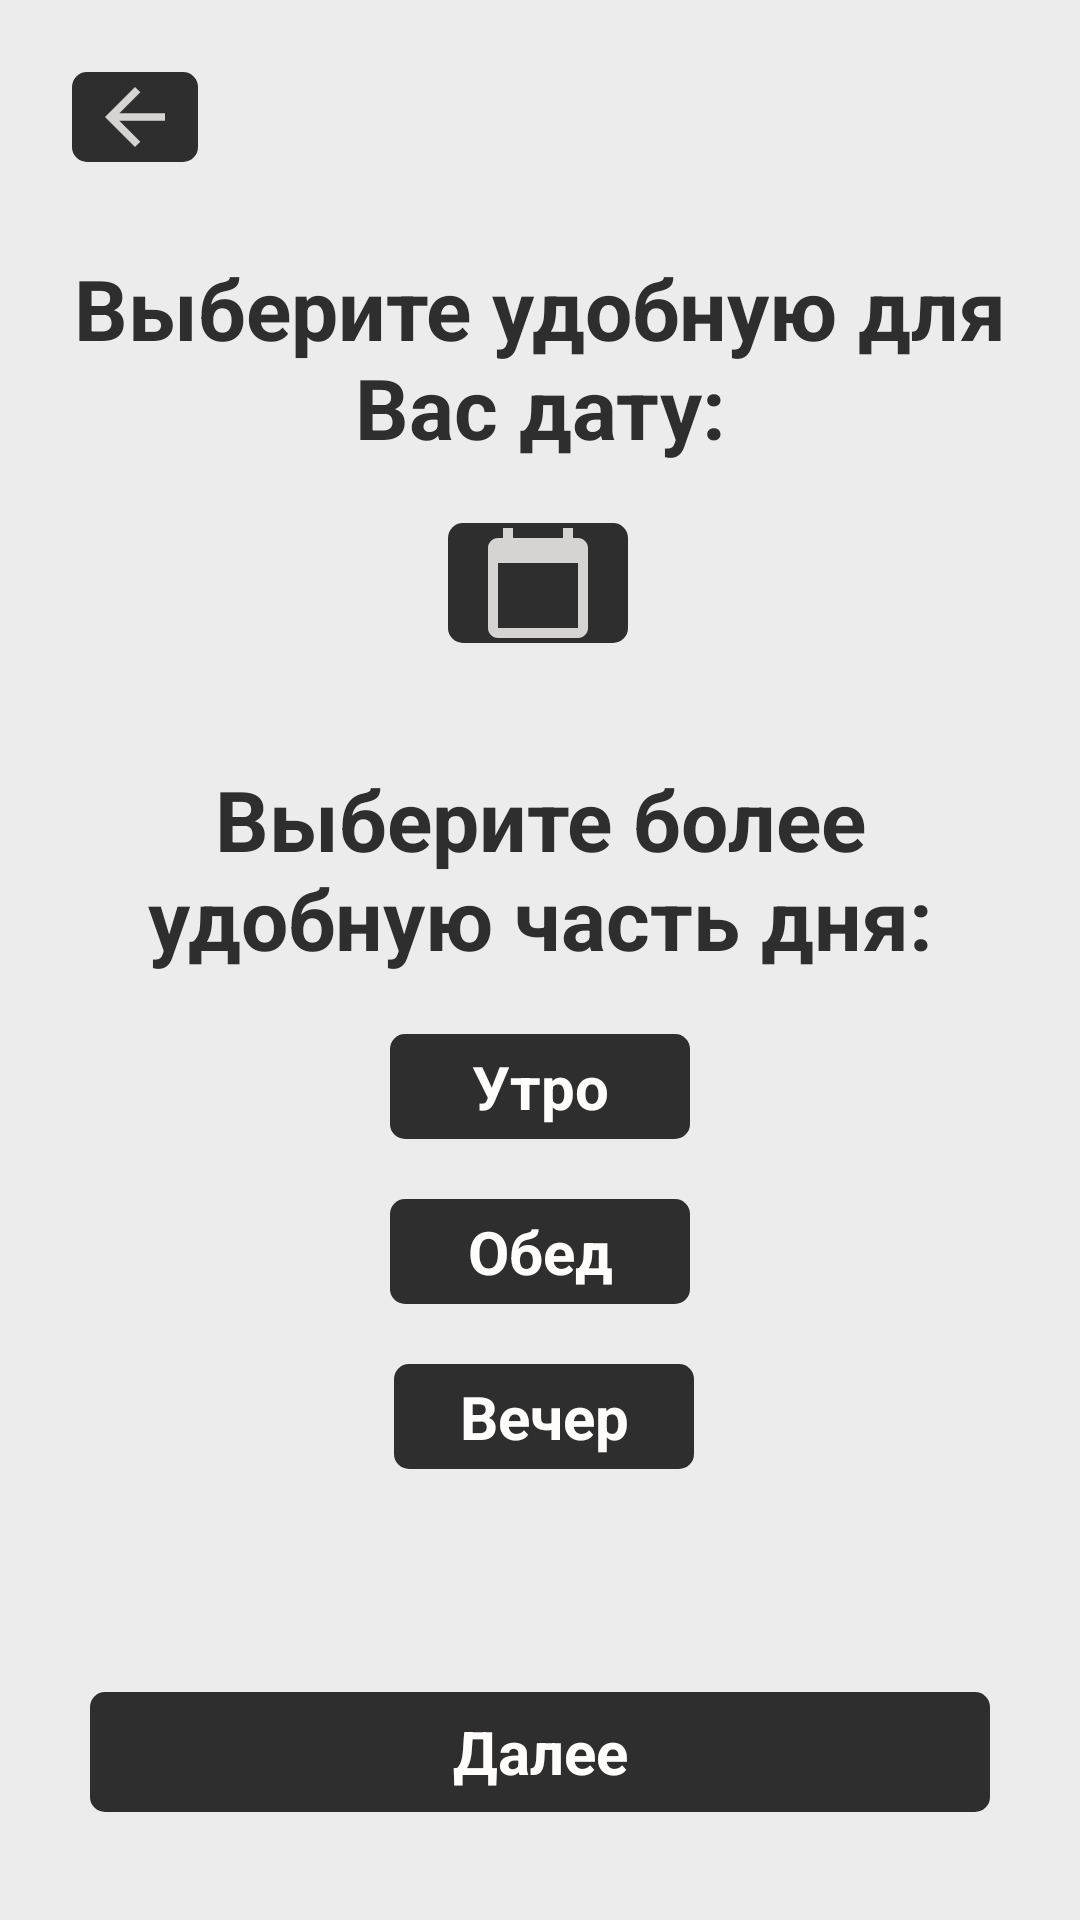

Screen size 1080x1920. Icon name, then its box in pixels as {"left": x1, "top": y1, "right": x2, "bottom": y2}:
back: {"left": 72, "top": 72, "right": 198, "bottom": 162}
